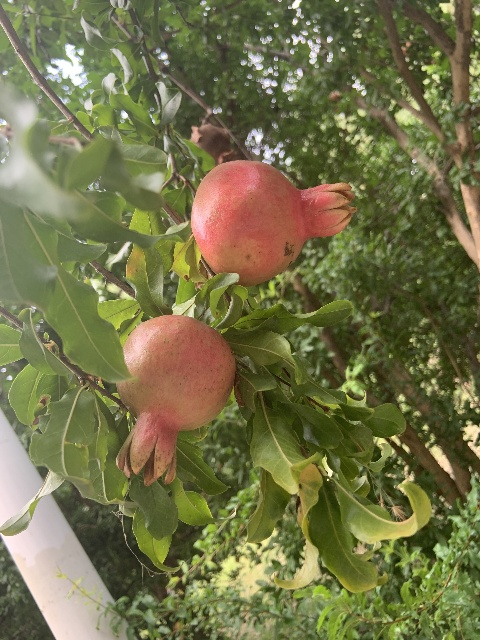ripe: (190, 159, 356, 286), (116, 314, 235, 486)
